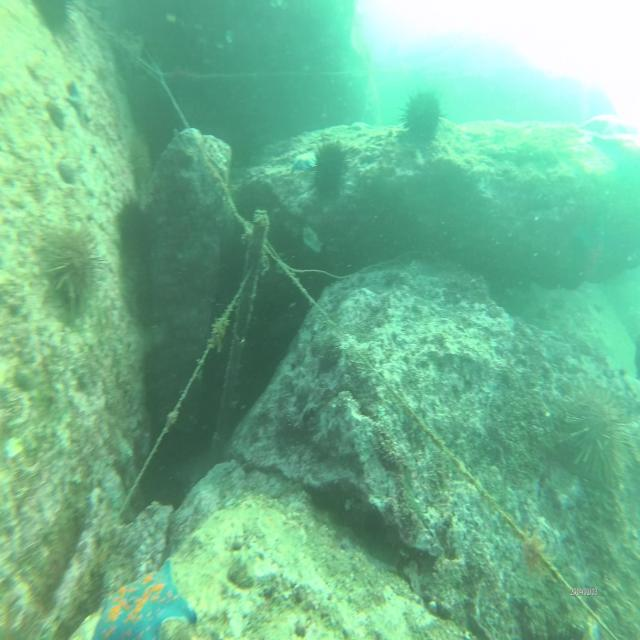echinus: (562, 380, 632, 487), (43, 225, 103, 314), (312, 138, 348, 202), (117, 196, 151, 259), (405, 89, 441, 143), (33, 0, 71, 33)
starfish: (94, 560, 196, 640)
